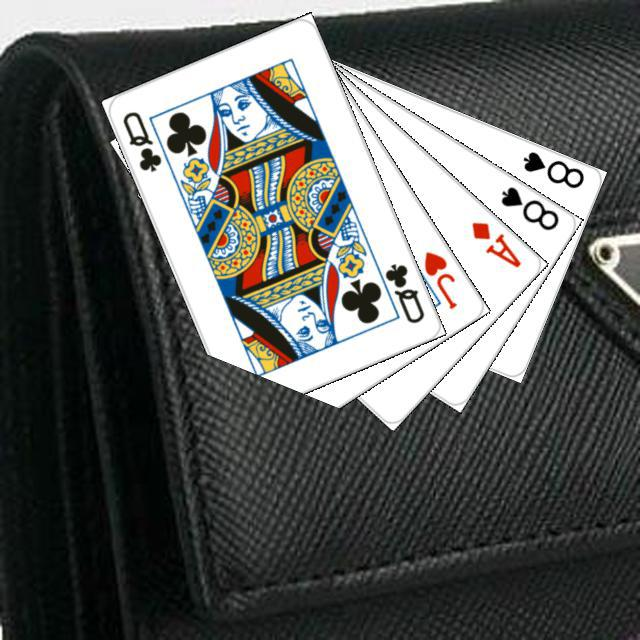8s: (495, 181, 561, 233), (518, 146, 586, 190)
Ad: (466, 216, 523, 270)
Jh: (419, 246, 459, 311)
Qc: (370, 258, 426, 325), (117, 106, 164, 174)
